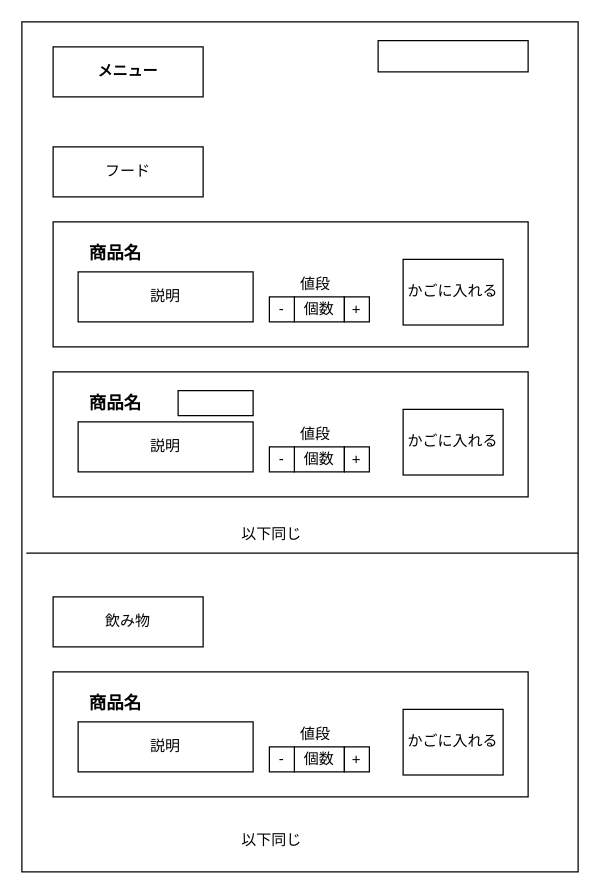
This 601x894 diagram has some shape labels left out. Each missing label, with the box of its shape:
売切れ: (177, 389, 253, 416)
注文の状況を見る: (377, 39, 528, 72)
